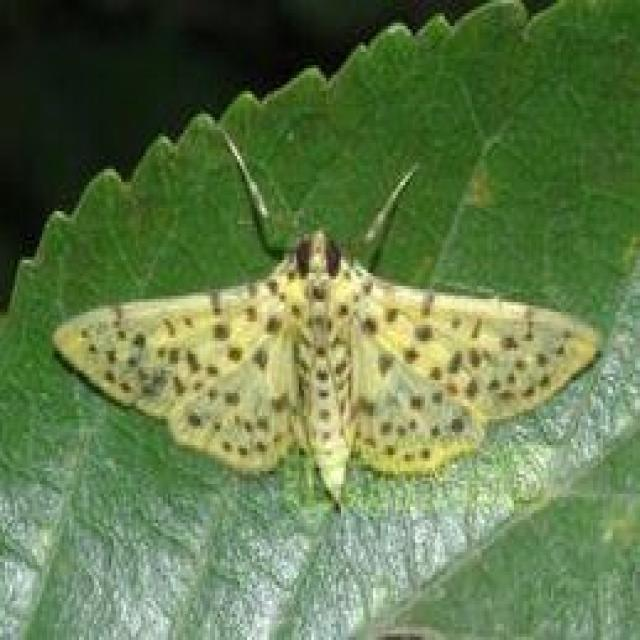peach borer: (53, 214, 611, 516)
